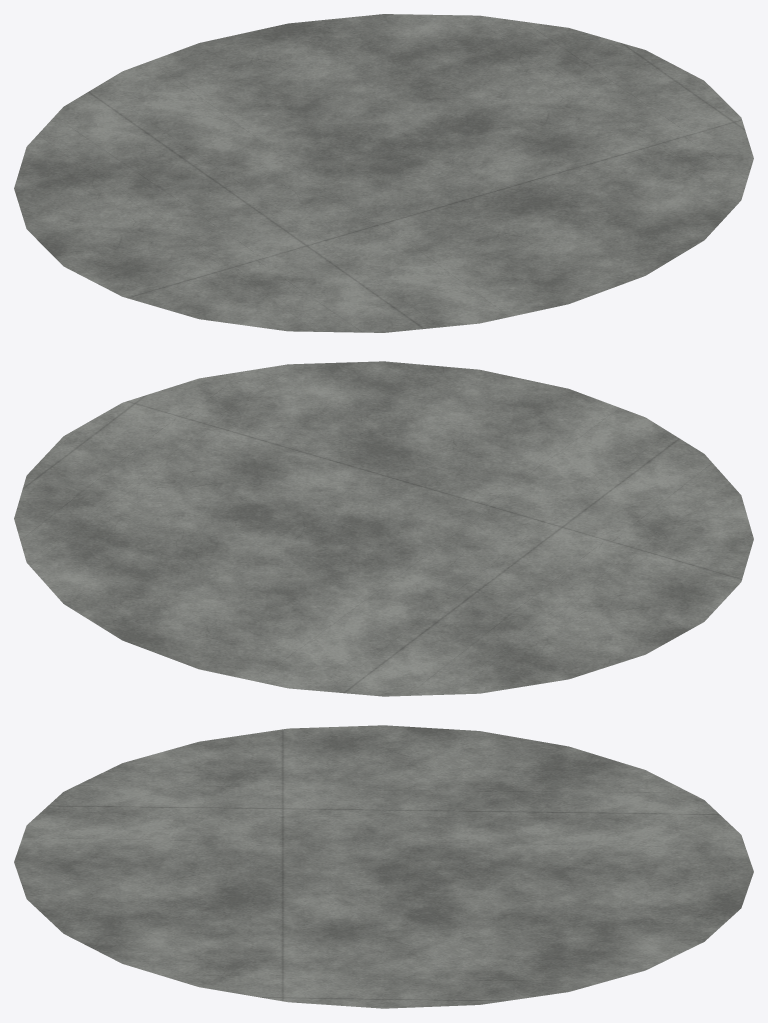
File: INT-J-003.obj
3 views of the same model, one above another, from view 1: azimuth 30°, elevation 25°; view 2: azimuth 150°, elevation 25°; view 3: azimuth 270°, elevation 25° (orthographic).
Parts seen in each view (by area): view 1: INT-J-003; view 2: INT-J-003; view 3: INT-J-003.
Boxes of the visible parts, x1,y1,x2,y2 form: INT-J-003: (14, 14, 753, 332); INT-J-003: (14, 361, 753, 696); INT-J-003: (14, 725, 753, 1008).
Size of the model in its own units: 6 by 0.2758 by 6.
Materials: 1 (1 with a texture image).
